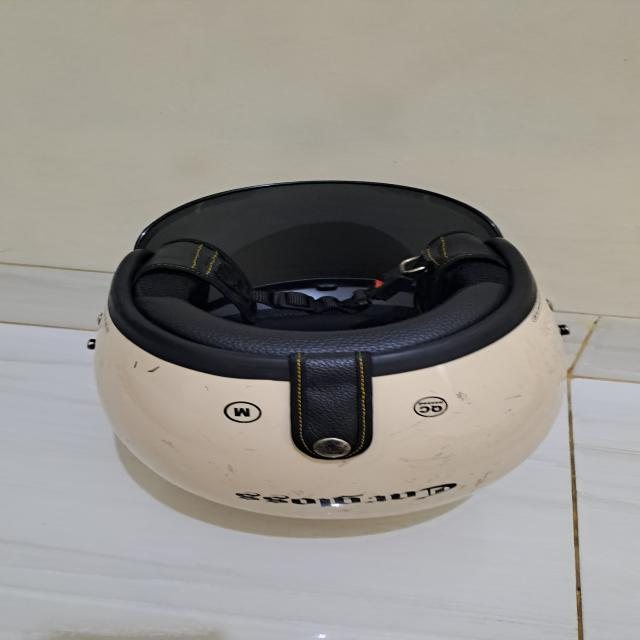Helm: (81, 164, 564, 529)
